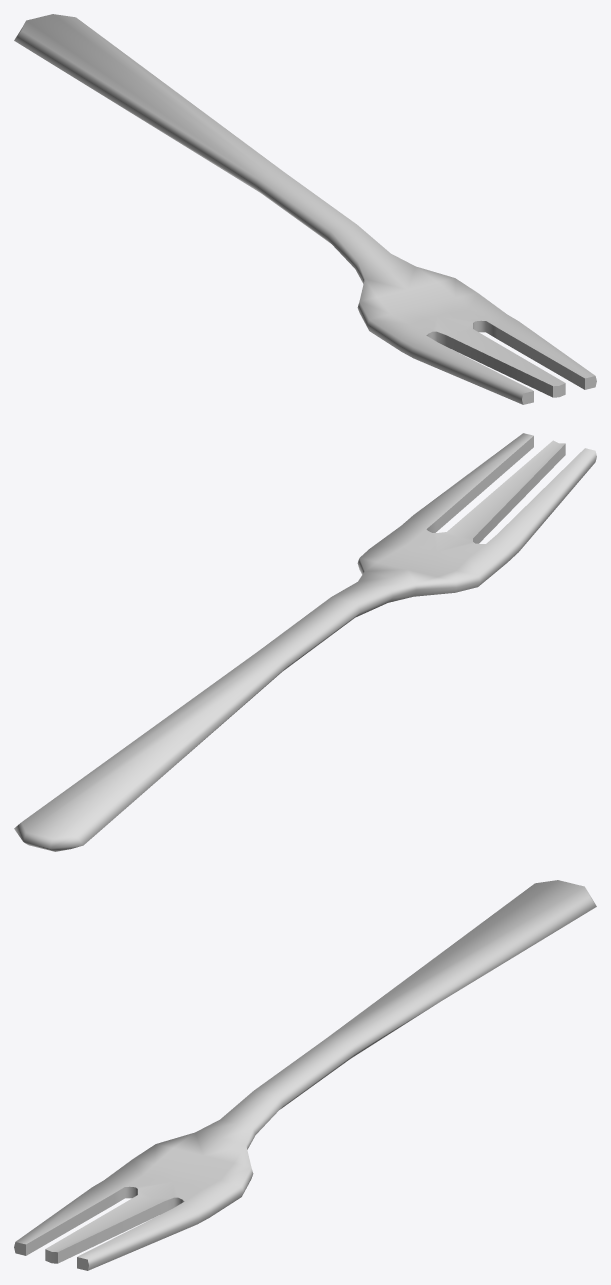
File: CakeFork_01.fbx
The picture shows the model from 3 angles, top to bottom: view 1: azimuth 30°, elevation 25°; view 2: azimuth 150°, elevation 25°; view 3: azimuth 330°, elevation 25°; orthographic projection.
Parts seen in each view (by area): view 1: CakeFork_01; view 2: CakeFork_01; view 3: CakeFork_01.
Part boxes in pixels (left/top/right/bottom): CakeFork_01: left=14, top=14, right=596, bottom=404; CakeFork_01: left=14, top=433, right=596, bottom=851; CakeFork_01: left=14, top=880, right=596, bottom=1270.
Bounding box in the file's own units: 0.0181 × 0.00507 × 0.145.
